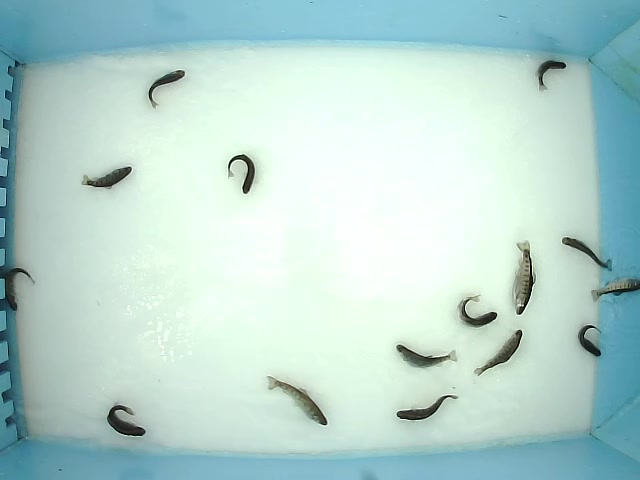fish: (266, 374, 328, 426), (473, 330, 523, 377), (510, 239, 536, 317), (561, 235, 614, 272), (395, 394, 459, 421), (394, 343, 459, 369), (147, 69, 186, 110), (105, 400, 147, 438), (456, 293, 499, 329), (4, 267, 36, 312), (590, 276, 640, 303), (79, 166, 132, 191), (227, 154, 256, 196), (535, 59, 567, 92), (577, 323, 603, 358)
